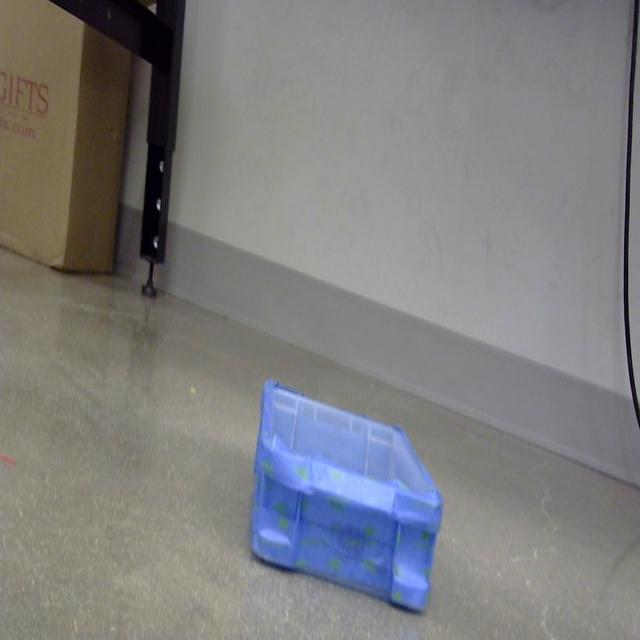bucket: (248, 380, 444, 617)
